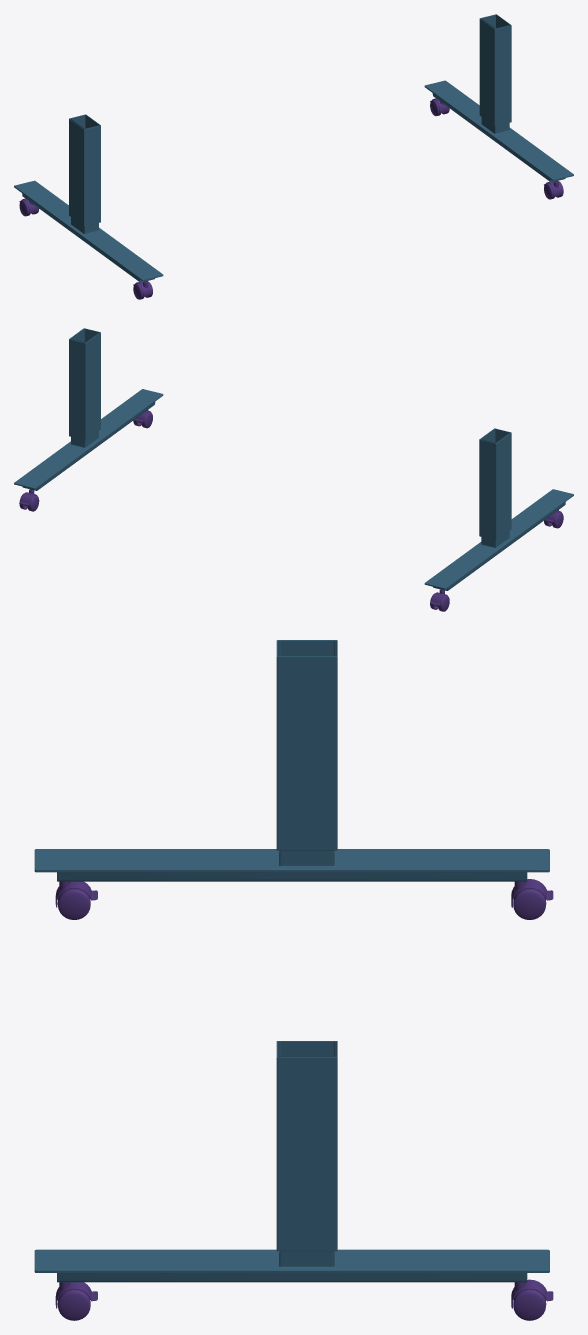
The model's file is SM_Schreibtisch_Unten.fbx.
3 views of the same model, one above another, from view 1: azimuth 30°, elevation 25°; view 2: azimuth 150°, elevation 25°; view 3: azimuth 270°, elevation 25° (orthographic). The views are drawn at different scales.
Parts seen in each view (by area): view 1: SM_Schreibtisch_Unten; view 2: SM_Schreibtisch_Unten; view 3: SM_Schreibtisch_Unten.
Boxes of the visible parts, x1,y1,x2,y2 form: SM_Schreibtisch_Unten: (14,14,573,299); SM_Schreibtisch_Unten: (14,328,573,611); SM_Schreibtisch_Unten: (34,640,553,1320).
Bounding box in the file's own units: 134 × 39.39 × 69.46.
